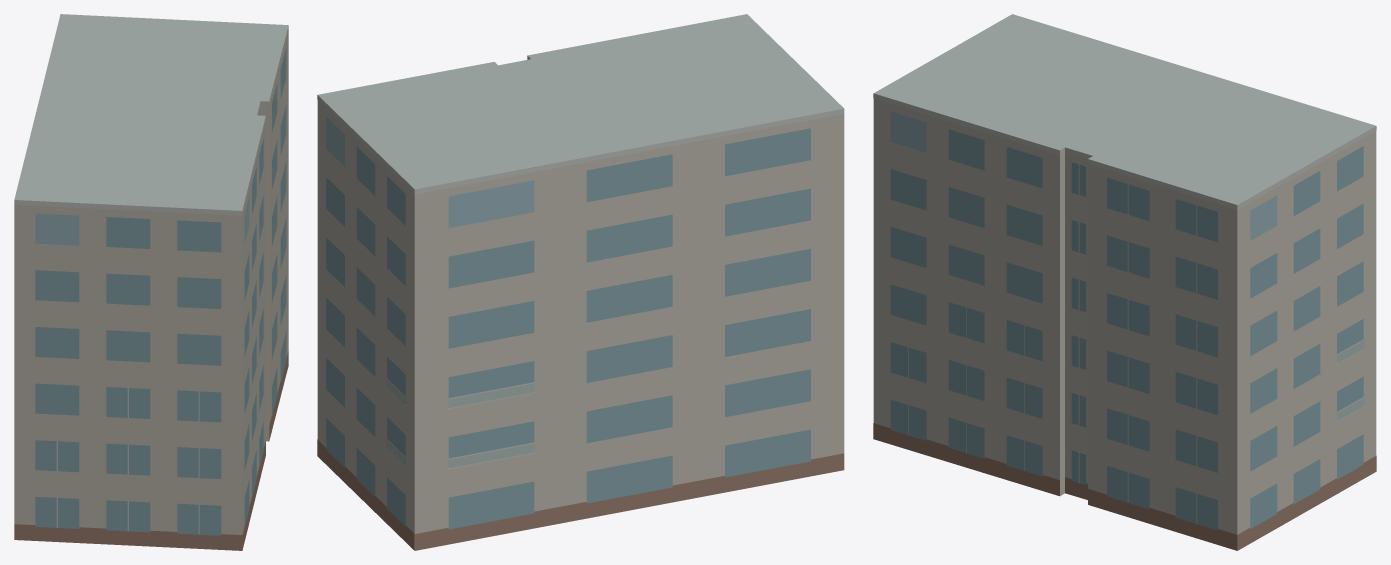
The model's file is survey-upis-33029429.glb.
3 views of the same model, side by side, from view 1: azimuth 30°, elevation 25°; view 2: azimuth 150°, elevation 25°; view 3: azimuth 270°, elevation 25° (orthographic). The views are drawn at different scales.
Parts seen in each view (by area): view 1: survey-upis-33029429.tmp; view 2: survey-upis-33029429.tmp; view 3: survey-upis-33029429.tmp.
Part boxes in pixels (box(x1,y1,x2,y2)): survey-upis-33029429.tmp: box(14, 14, 288, 550); survey-upis-33029429.tmp: box(317, 14, 844, 550); survey-upis-33029429.tmp: box(873, 14, 1376, 550).
Bounding box in the file's own units: 20.51 × 17.3 × 22.81.
